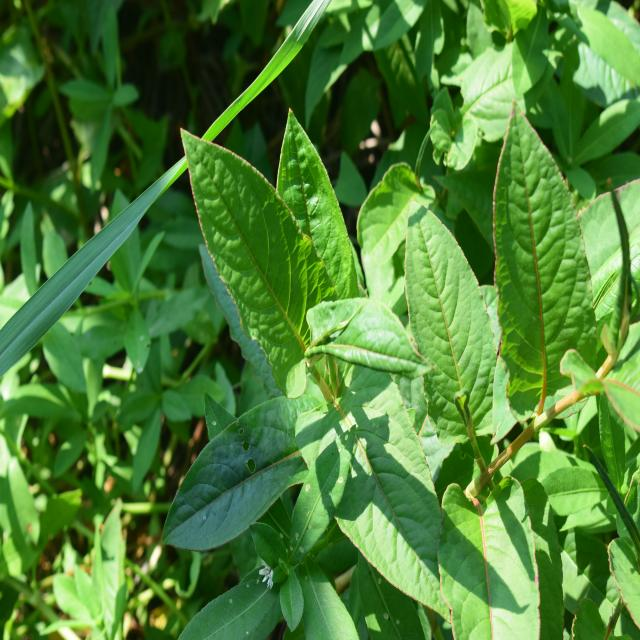Chinese_knotweed: (174, 143, 450, 596), (387, 136, 640, 434)
